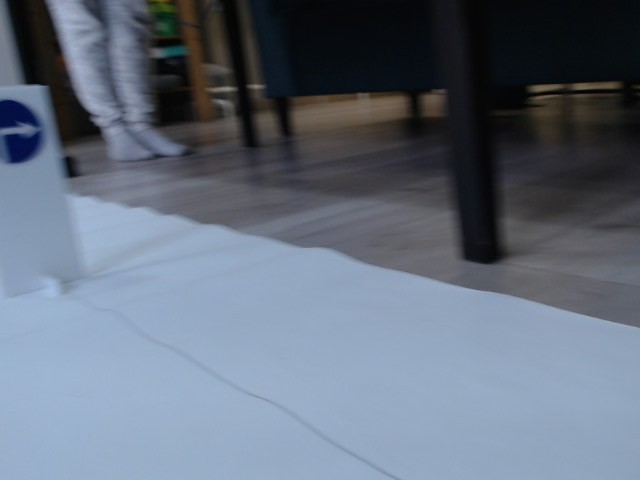Right: (1, 98, 43, 167)
